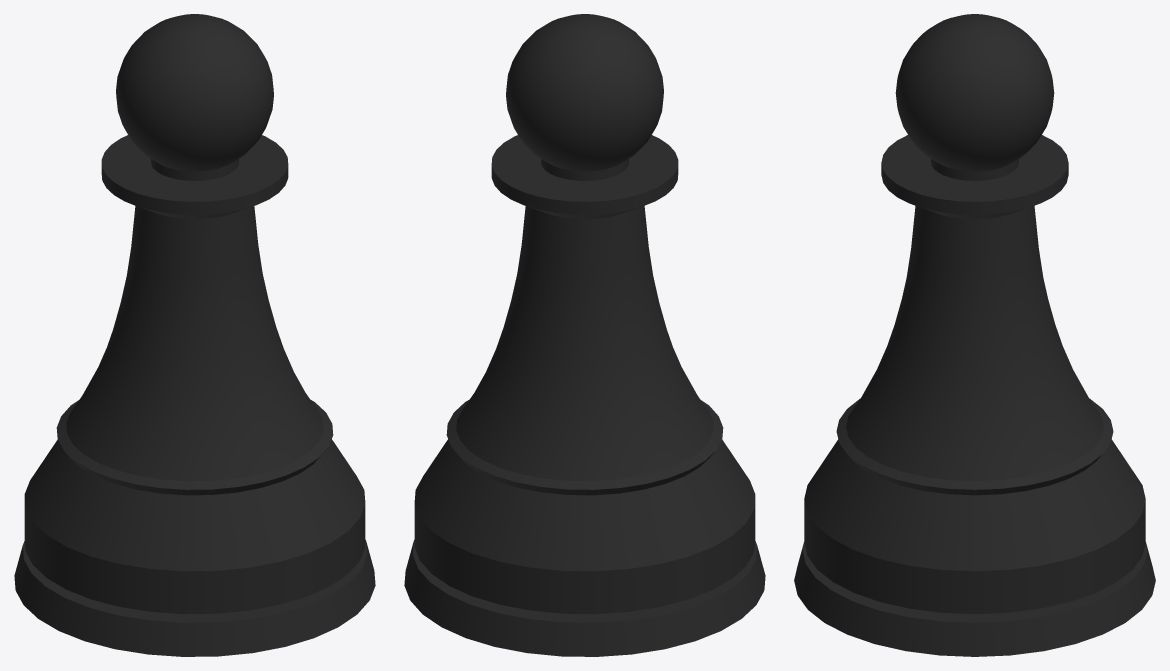
Rendered from chess_pawn.gltf.
3 renders of one model, left to right at view 1: azimuth 30°, elevation 25°; view 2: azimuth 150°, elevation 25°; view 3: azimuth 270°, elevation 25°, orthographic.
Parts seen in each view (by area): view 1: Circle.2537; view 2: Circle.2537; view 3: Circle.2537.
Part boxes in pixels (<box>): Circle.2537: <box>14,14,375,656</box>; Circle.2537: <box>404,14,765,656</box>; Circle.2537: <box>794,14,1155,656</box>.
Size of the model in its own units: 1.23 by 2.1 by 1.23.
Materials: 1 (1 with a texture image).
